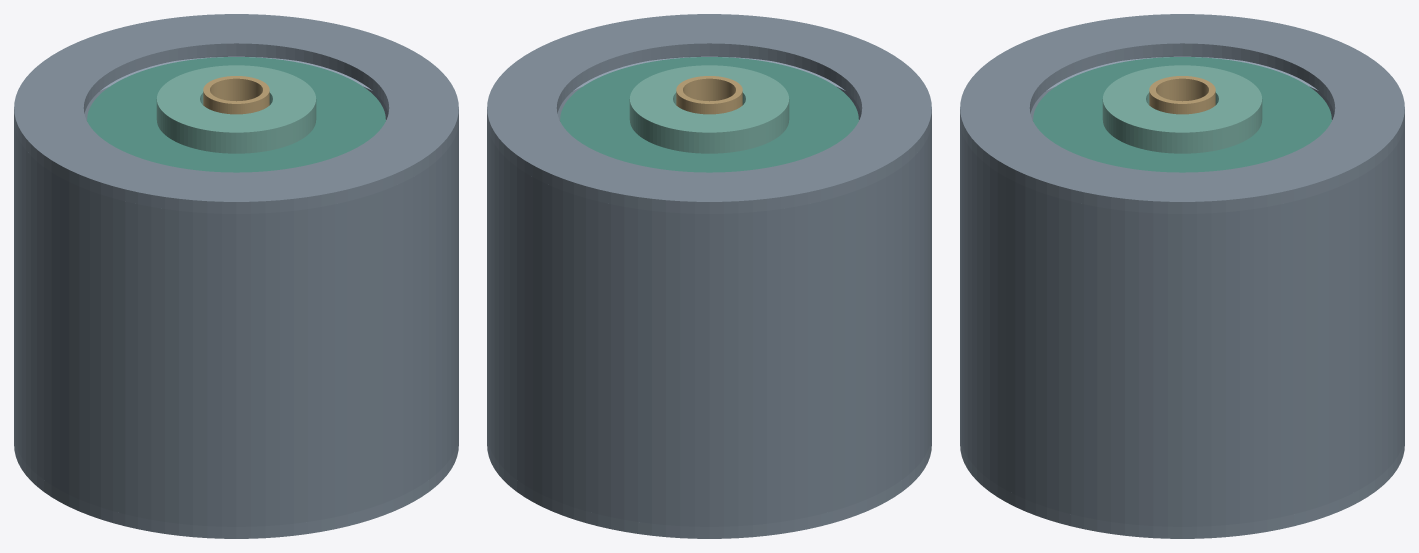
File: robot-joint.glb
The picture shows the model from 3 angles, left to right: view 1: azimuth 30°, elevation 25°; view 2: azimuth 150°, elevation 25°; view 3: azimuth 270°, elevation 25°; orthographic projection.
Parts seen in each view (by area): view 1: housing-shell, front-cover-ring, output-flange-face, output-flange-neck, rear-cover-ring, stationary-cable-conduit, cross-roller-outer-race; view 2: housing-shell, front-cover-ring, output-flange-face, output-flange-neck, rear-cover-ring, stationary-cable-conduit, cross-roller-outer-race; view 3: housing-shell, front-cover-ring, output-flange-face, output-flange-neck, rear-cover-ring, stationary-cable-conduit, cross-roller-outer-race.
Boxes of the visible parts, <box> form: housing-shell: <box>14,55,458,526</box>; front-cover-ring: <box>14,14,458,213</box>; output-flange-face: <box>87,57,385,172</box>; output-flange-neck: <box>156,65,316,153</box>; rear-cover-ring: <box>14,434,458,538</box>; stationary-cable-conduit: <box>203,76,269,114</box>; cross-roller-outer-race: <box>84,56,388,119</box>; housing-shell: <box>487,55,931,526</box>; front-cover-ring: <box>487,14,931,213</box>; output-flange-face: <box>560,57,858,172</box>; output-flange-neck: <box>629,65,789,153</box>; rear-cover-ring: <box>487,434,931,538</box>; stationary-cable-conduit: <box>676,76,742,114</box>; cross-roller-outer-race: <box>557,56,861,119</box>; housing-shell: <box>960,55,1404,526</box>; front-cover-ring: <box>960,14,1404,213</box>; output-flange-face: <box>1033,57,1331,172</box>; output-flange-neck: <box>1102,65,1262,153</box>; rear-cover-ring: <box>960,434,1404,538</box>; stationary-cable-conduit: <box>1149,76,1215,114</box>; cross-roller-outer-race: <box>1030,56,1334,119</box>.
Size of the model in its own units: 0.134 by 0.118 by 0.134.
